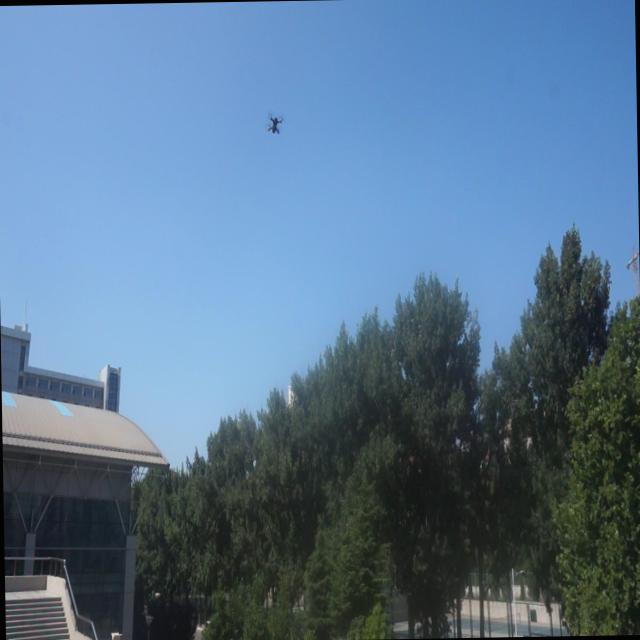drone: (263, 109, 285, 139)
